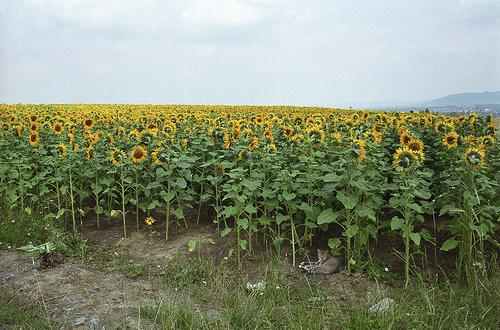sunflower: (392, 146, 414, 172), (465, 146, 486, 168), (306, 126, 324, 146), (406, 138, 425, 155), (108, 147, 125, 165), (130, 144, 146, 162), (442, 131, 459, 147), (25, 133, 39, 146), (82, 117, 96, 129), (51, 120, 62, 134), (282, 125, 292, 138)
